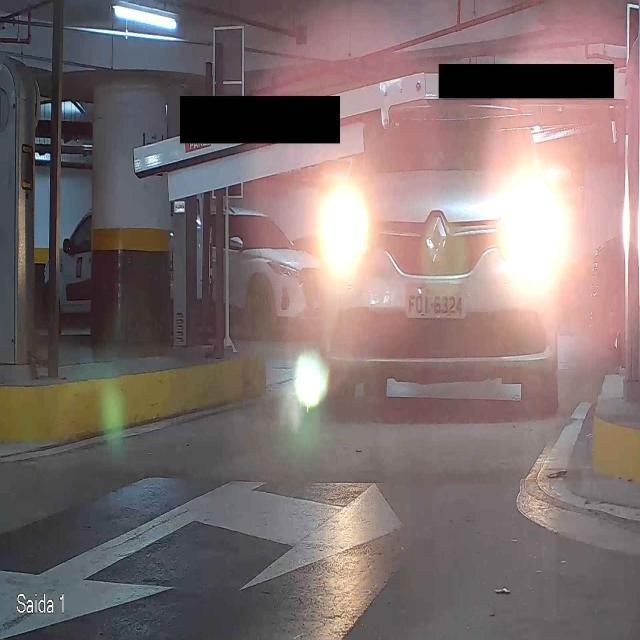old_plate: (403, 282, 468, 322)
